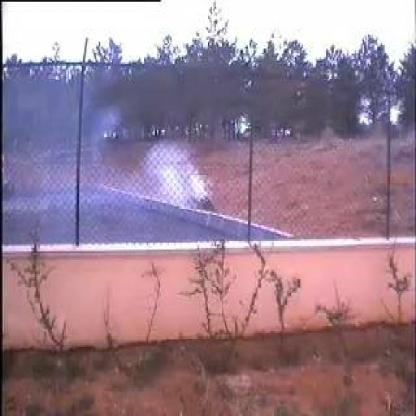-: (82, 92, 214, 241)
